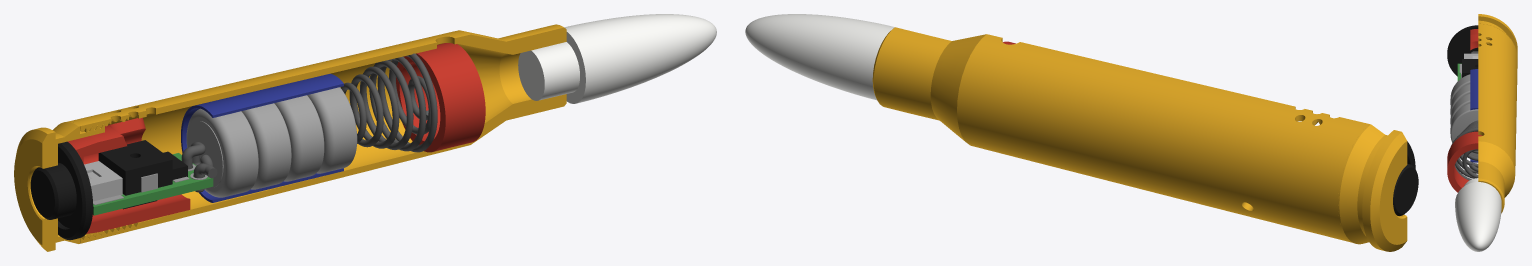
The model's file is AFTR_AR5.glb.
3 renders of one model, left to right at view 1: azimuth 30°, elevation 25°; view 2: azimuth 150°, elevation 25°; view 3: azimuth 270°, elevation 25°, orthographic. The views are drawn at different scales.
Parts seen in each view (by area): view 1: node_id9, node_id13, node_id29, node_id25, node_id107, node_id17, node_id7, node_id21, node_id115, node_id109, node_id111, node_id113 (+4 smaller); view 2: node_id9, node_id13, node_id7, node_id17; view 3: node_id9, node_id13, node_id25, node_id17, node_id29, node_id113, node_id7, node_id115, node_id39, node_id109, node_id107, node_id111 (+3 smaller).
Boxes of the visible parts, bbox=[...] form: node_id9: bbox=[68, 24, 566, 243]; node_id13: bbox=[518, 14, 716, 103]; node_id29: bbox=[340, 53, 437, 152]; node_id25: bbox=[396, 43, 485, 152]; node_id107: bbox=[186, 108, 258, 197]; node_id17: bbox=[30, 141, 93, 240]; node_id7: bbox=[14, 121, 104, 251]; node_id21: bbox=[67, 117, 190, 233]; node_id115: bbox=[181, 73, 343, 202]; node_id109: bbox=[241, 103, 291, 189]; node_id111: bbox=[274, 95, 324, 181]; node_id113: bbox=[307, 87, 357, 173]; node_id9: bbox=[872, 27, 1369, 242]; node_id13: bbox=[745, 14, 894, 100]; node_id7: bbox=[1338, 124, 1407, 251]; node_id17: bbox=[1393, 141, 1418, 215]; node_id9: bbox=[1478, 23, 1517, 213]; node_id13: bbox=[1455, 178, 1501, 251]; node_id25: bbox=[1447, 131, 1482, 192]; node_id17: bbox=[1447, 25, 1478, 76]; node_id29: bbox=[1451, 120, 1478, 180]; node_id113: bbox=[1450, 103, 1478, 156]; node_id7: bbox=[1478, 14, 1517, 56]; node_id115: bbox=[1470, 69, 1478, 162]; node_id39: bbox=[1462, 59, 1478, 77]; node_id109: bbox=[1450, 84, 1470, 114]; node_id107: bbox=[1450, 74, 1470, 104]; node_id111: bbox=[1450, 93, 1470, 124].
Size of the model in its own units: 0.512 by 0.0856 by 0.0767.
50 materials, 50 textured.
